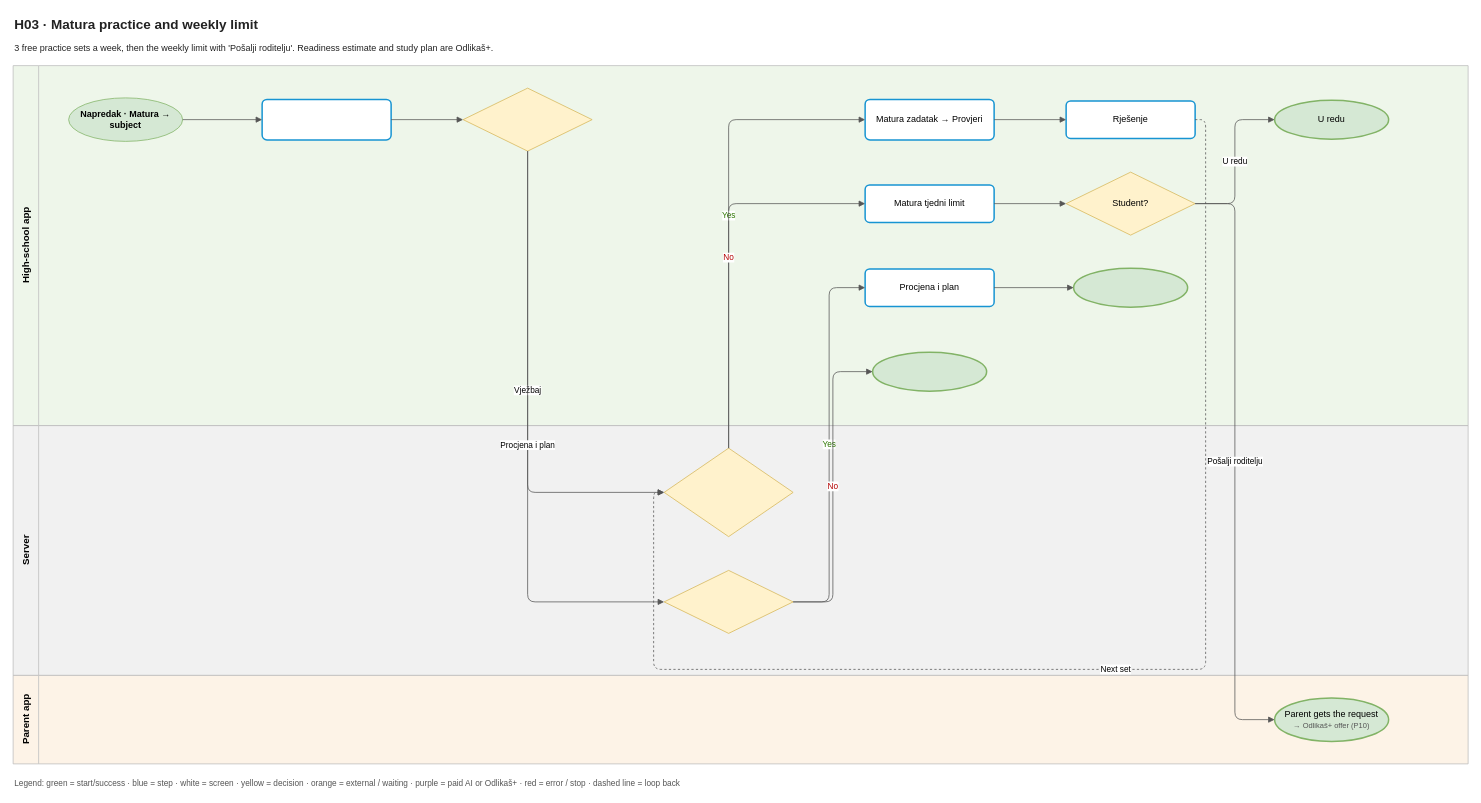
This 1481x803 diagram has some shape labels left out. The centre of each missing label's shape, as x and y in pixels:
"Action?" goes at point (527, 119).
"Dodaj u kalendar ispita" goes at point (1130, 287).
"Matura predmet (Matematika A)" goes at point (326, 119).
"Odlikaš+?" goes at point (728, 601).
"Practice left this week? (B03) Free 3, Odlikaš+ unlimited" goes at point (728, 492).
"→ H04 Odlikaš+" goes at point (929, 371).
